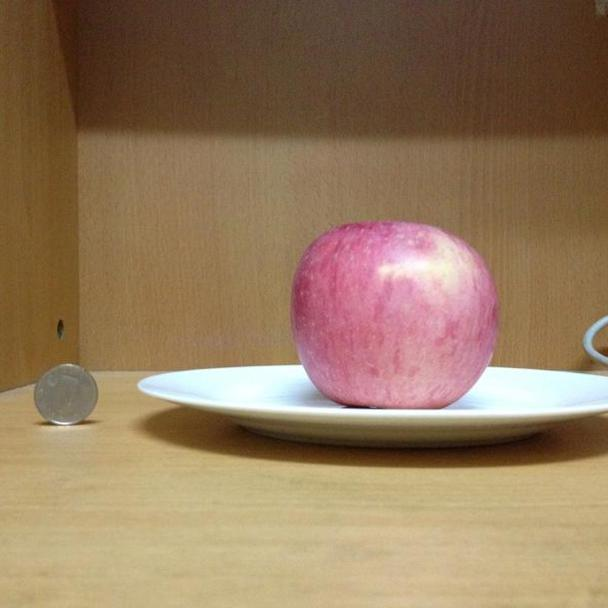apple: (289, 217, 499, 410)
